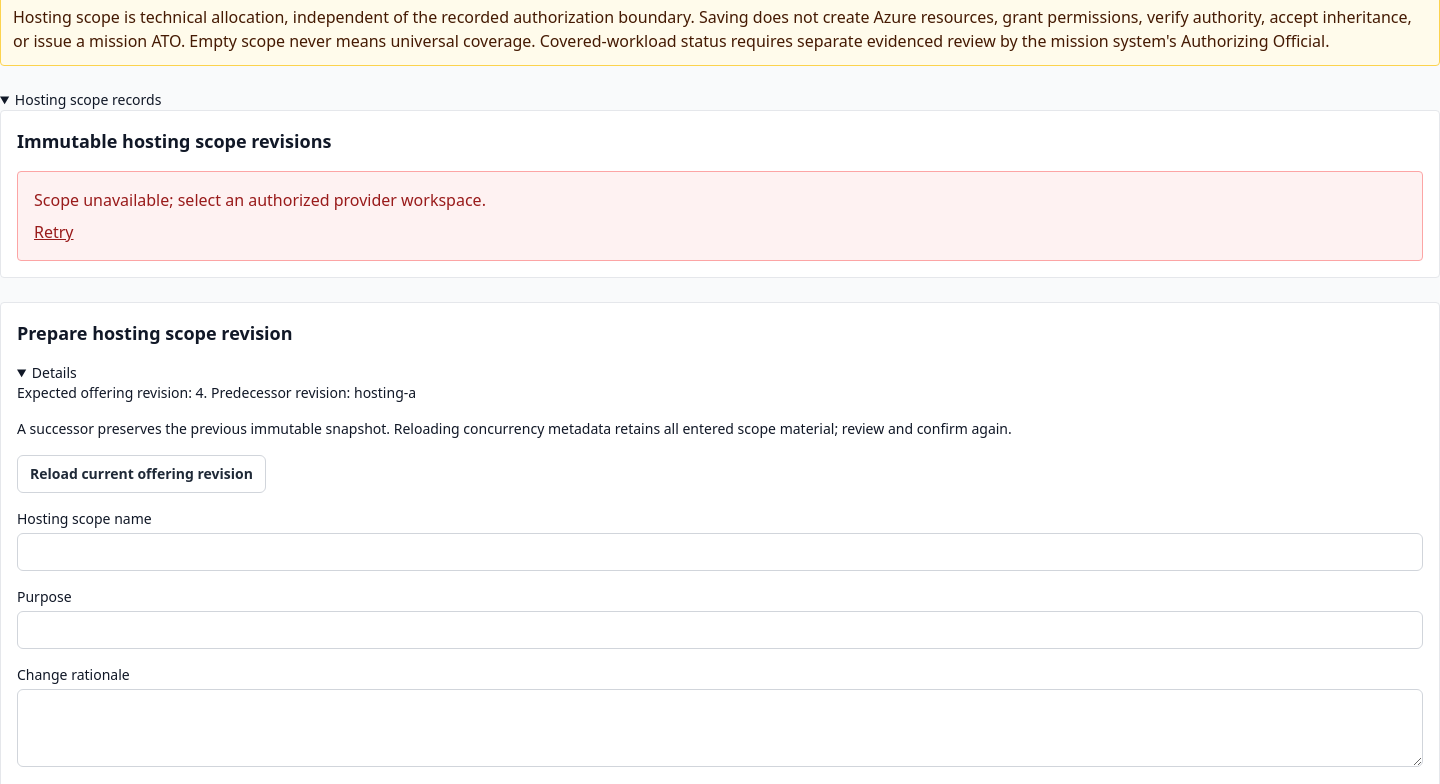
Scenario: offering hosting scope and assignment panel › surfaces 401 reads with retry, never as empty successful results
Expected: the message shows "Scope unavailable", left=34, top=189, right=486, bottom=211
Click the button "Retry" at [54, 232], box left=34, top=220, right=74, bottom=244
(page scrolled)
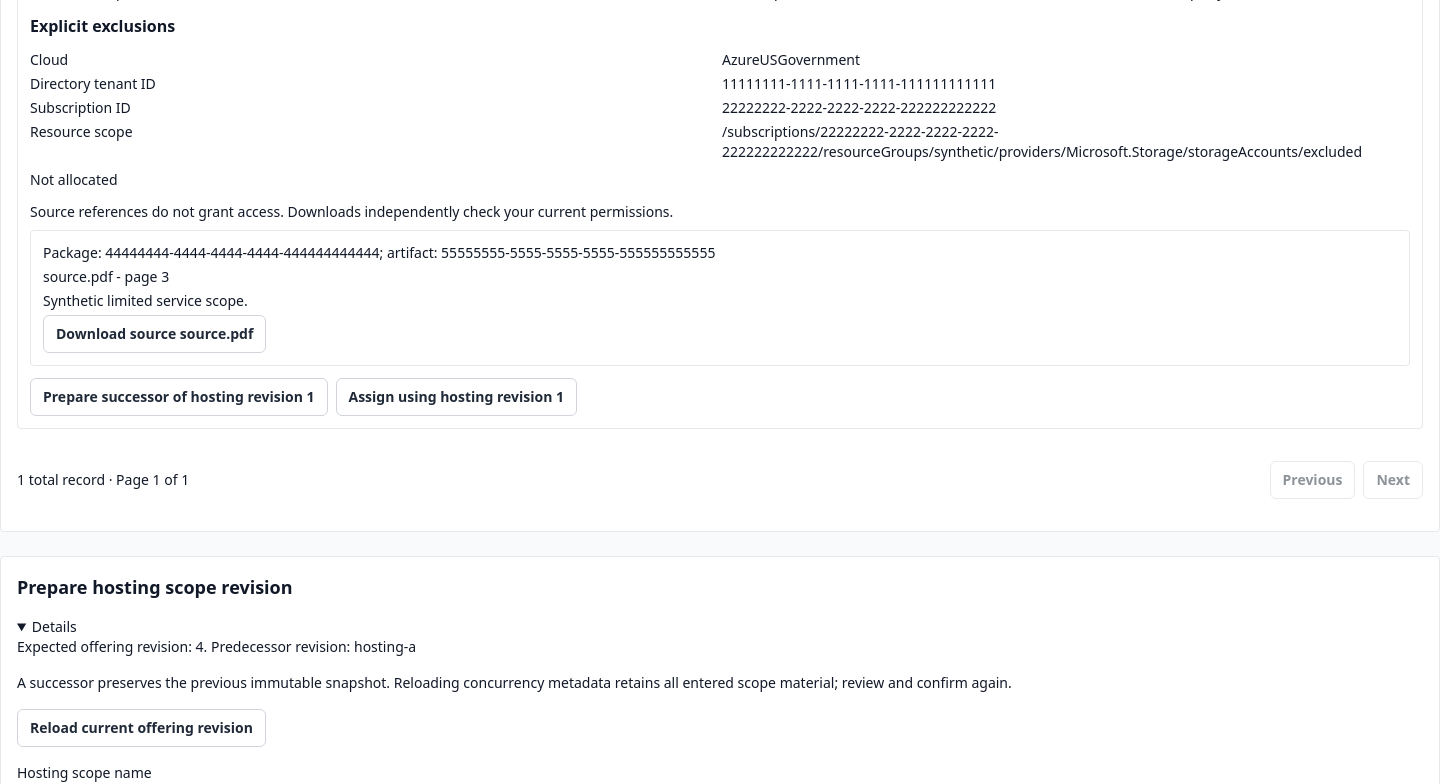
Expected: the button "Assign using hosting revision 1" is shown, left=336, top=378, right=577, bottom=416
